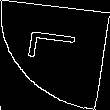L_E: (25, 36, 85, 74)
